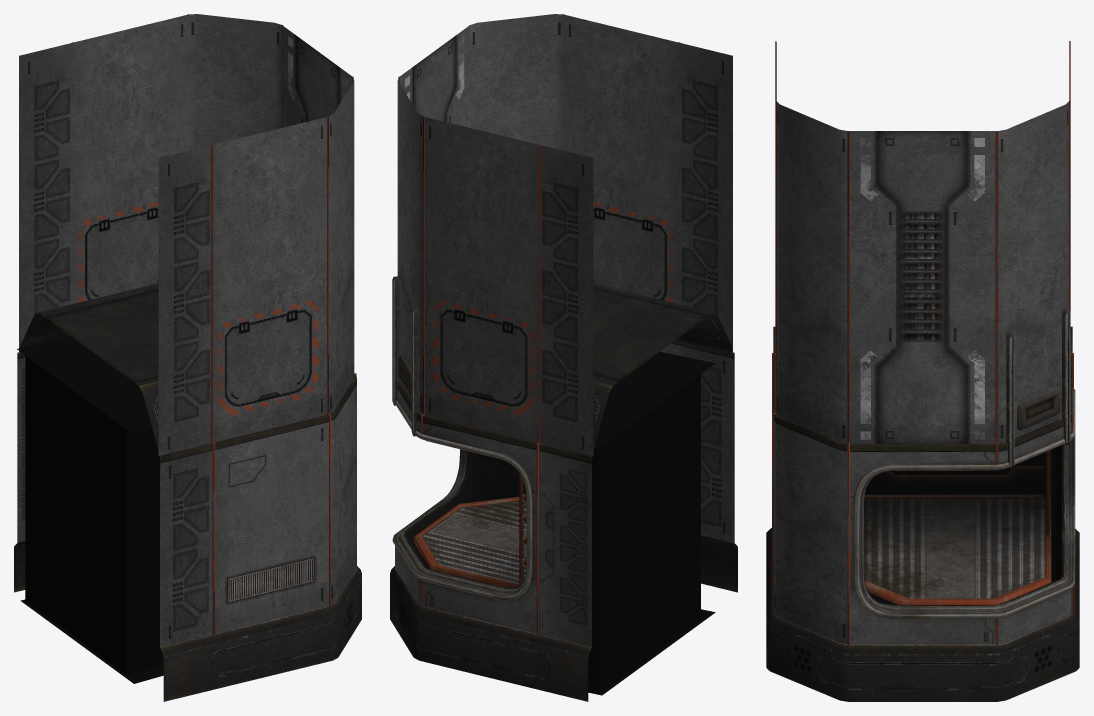
Rendered from cargo_elevator_tau_living_area_aligned_right.dae.
The picture shows the model from 3 angles, left to right: view 1: azimuth 30°, elevation 25°; view 2: azimuth 150°, elevation 25°; view 3: azimuth 270°, elevation 25°; orthographic projection. The views are drawn at different scales.
Parts seen in each view (by area): view 1: polySurface220, polySurface222; view 2: polySurface220, polySurface222; view 3: polySurface220, polySurface222.
Part boxes in pixels (x1,y1,x2,y2): polySurface220: (19, 14, 356, 647); polySurface222: (14, 283, 361, 701); polySurface220: (397, 14, 734, 635); polySurface222: (390, 276, 737, 701); polySurface220: (772, 41, 1073, 645); polySurface222: (766, 308, 1079, 701).
Size of the model in its own units: 2.59 by 5.57 by 2.8.
